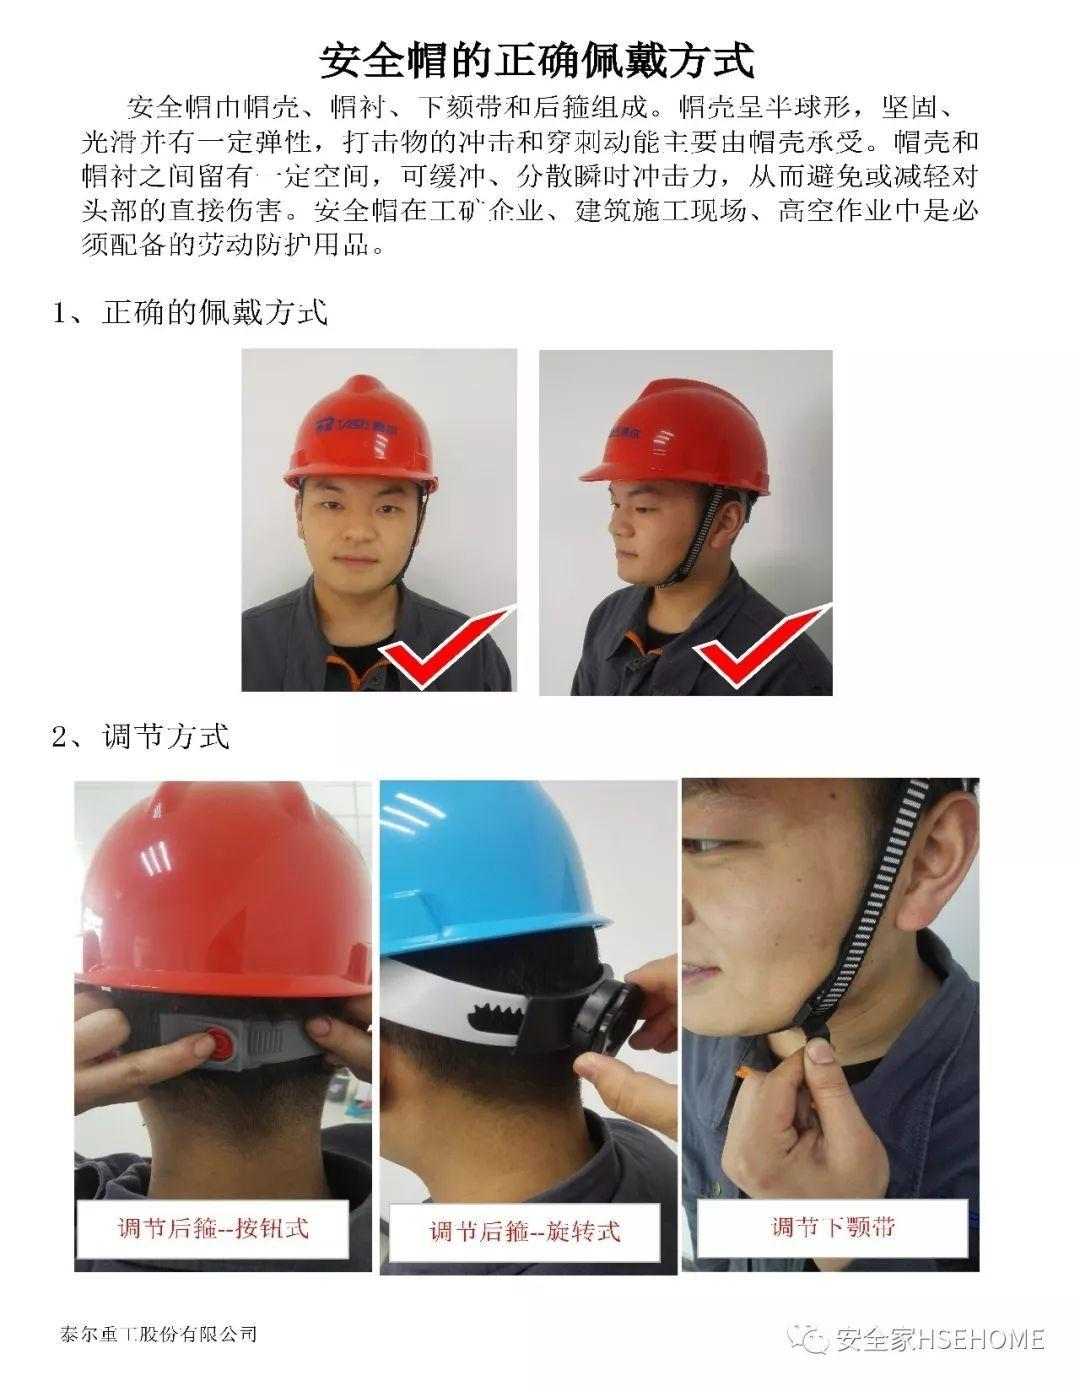helmet: (580, 379, 777, 504), (283, 370, 443, 497)
